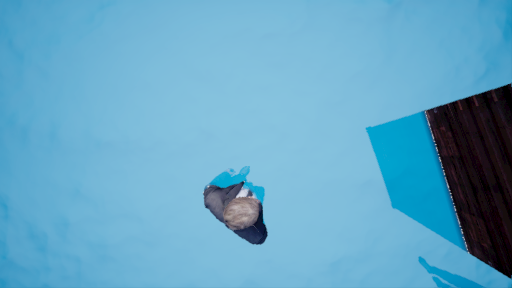person: (201, 162, 274, 243)
